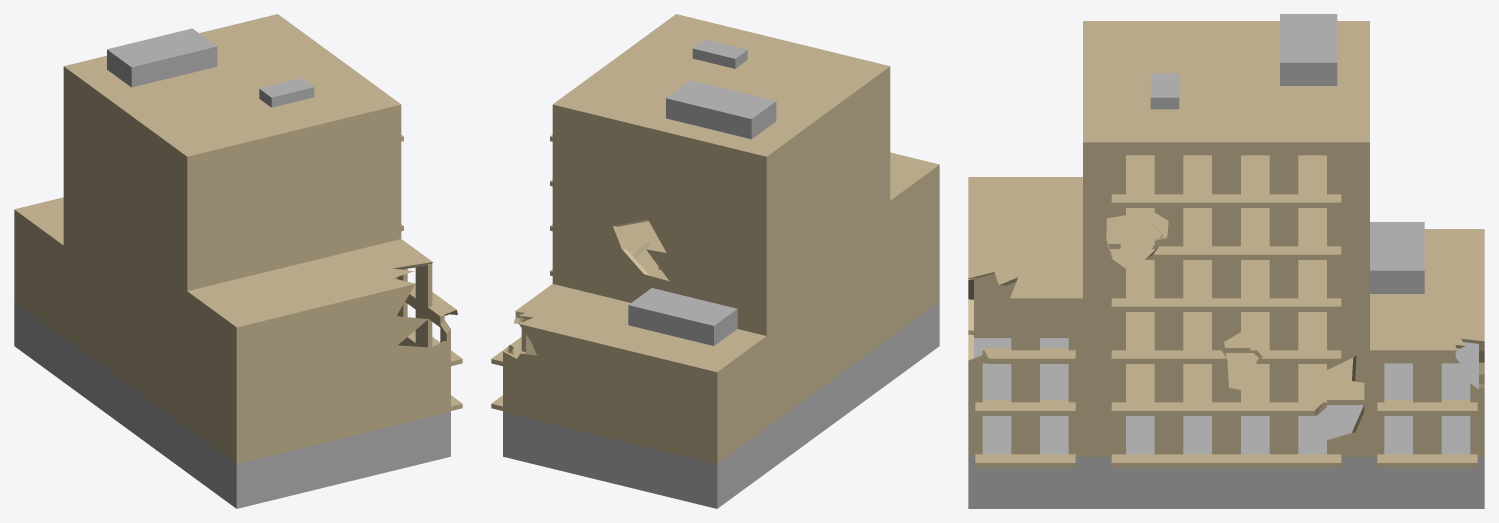
Rendered from Flat2Destroyed.fbx.
3 views of the same model, side by side, from view 1: azimuth 30°, elevation 25°; view 2: azimuth 150°, elevation 25°; view 3: azimuth 270°, elevation 25° (orthographic). The views are drawn at different scales.
Visible parts, largest first — view 1: Cube.047, Cube.046, Cube.004, Cube.044, Cube, Cube.005, Cube.010, Cube.065, Cube.030, Cube.031, Cube.006, Cube.069 (+3 smaller); view 2: Cube.045, Cube.047, Cube.044, Cube, Cube.029, Cube.031, Cube.010, Cube.030, Cube.065, Cube.032, Cube.003, Cube.005 (+3 smaller); view 3: Cube, Cube.044, Cube.005, Cube.031, Cube.050, Cube.052, Cube.001, Cube.003, Cube.042, Cube.002, Cube.043, Cube.065 (+30 smaller).
Boxes of the visible parts, x1=… form: Cube.047: x1=66, y1=70, x2=184, y2=425; Cube.046: x1=184, y1=109, x2=401, y2=427; Cube.004: x1=234, y1=286, x2=446, y2=463; Cube.044: x1=63, y1=14, x2=401, y2=160; Cube: x1=14, y1=301, x2=450, y2=508; Cube.005: x1=187, y1=239, x2=432, y2=331; Cube.010: x1=187, y1=294, x2=240, y2=463; Cube.065: x1=107, y1=28, x2=217, y2=87; Cube.030: x1=14, y1=213, x2=63, y2=336; Cube.031: x1=14, y1=197, x2=63, y2=248; Cube.006: x1=415, y1=264, x2=432, y2=347; Cube.069: x1=259, y1=78, x2=314, y2=107; Cube.045: x1=552, y1=107, x2=769, y2=427; Cube.047: x1=769, y1=70, x2=887, y2=425; Cube.044: x1=552, y1=14, x2=890, y2=159; Cube: x1=503, y1=301, x2=939, y2=508; Cube.029: x1=503, y1=327, x2=719, y2=463; Cube.031: x1=515, y1=284, x2=766, y2=374; Cube.010: x1=890, y1=169, x2=939, y2=336; Cube.030: x1=713, y1=338, x2=766, y2=463; Cube.065: x1=666, y1=80, x2=776, y2=139; Cube.032: x1=628, y1=288, x2=737, y2=345; Cube.003: x1=552, y1=221, x2=766, y2=295; Cube.005: x1=890, y1=152, x2=939, y2=202; Cube: x1=968, y1=338, x2=1484, y2=508; Cube.044: x1=1083, y1=21, x2=1369, y2=147; Cube.005: x1=968, y1=177, x2=1082, y2=303; Cube.031: x1=1370, y1=229, x2=1484, y2=355; Cube.050: x1=1086, y1=144, x2=1125, y2=456; Cube.052: x1=1327, y1=145, x2=1366, y2=456; Cube.001: x1=1126, y1=353, x2=1364, y2=404; Cube.003: x1=1083, y1=223, x2=1369, y2=303; Cube.042: x1=1106, y1=208, x2=1326, y2=248; Cube.002: x1=1126, y1=312, x2=1326, y2=352; Cube.043: x1=1126, y1=155, x2=1326, y2=191; Cube.065: x1=1280, y1=14, x2=1337, y2=85.
Bounding box in the file's own units: 1070 × 1500 × 1800.
